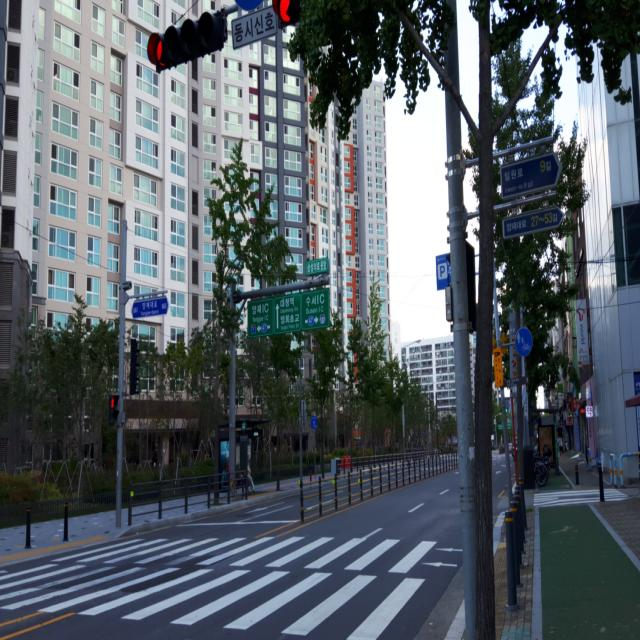빨간불: (106, 394, 122, 429)
횡단보도: (1, 529, 466, 640), (533, 488, 629, 506)
